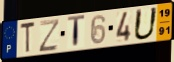4: (115, 10, 133, 43)
6: (90, 14, 107, 46)
T: (66, 14, 86, 50), (20, 20, 37, 55)
U: (132, 6, 160, 42)
Z: (38, 18, 61, 54)
